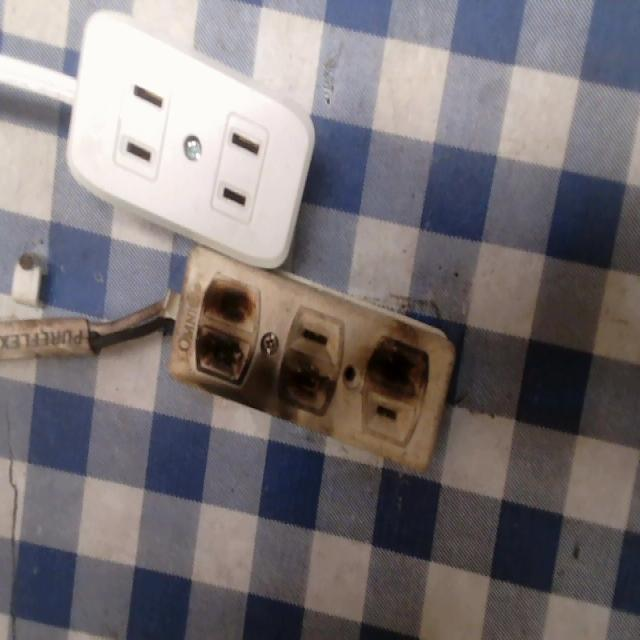-: (195, 267, 261, 393), (367, 321, 433, 408), (271, 350, 337, 430)
